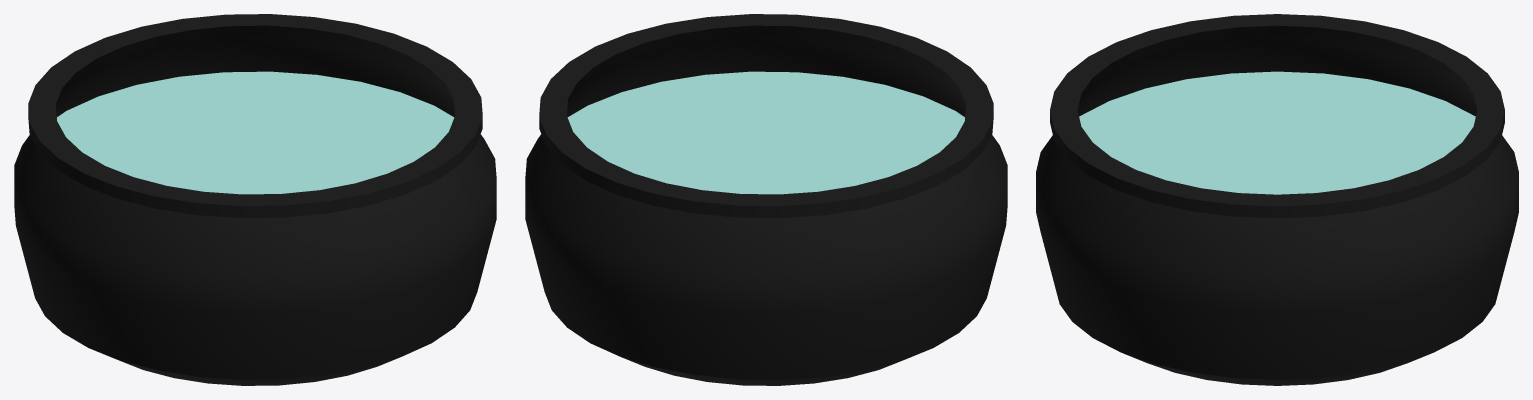
The model's file is puzzleroom2_cauldron.fbx.
3 renders of one model, left to right at view 1: azimuth 30°, elevation 25°; view 2: azimuth 150°, elevation 25°; view 3: azimuth 270°, elevation 25°, orthographic.
Visible parts, largest first — view 1: Cauldron, Fluid; view 2: Cauldron, Fluid; view 3: Cauldron, Fluid.
Boxes of the visible parts, x1,y1,x2,y2 form: Cauldron: (14,14,496,385); Fluid: (57,71,454,194); Cauldron: (525,14,1007,385); Fluid: (567,71,964,194); Cauldron: (1036,14,1518,385); Fluid: (1079,71,1475,194).
Bounding box in the file's own units: 115 × 59.96 × 115.
